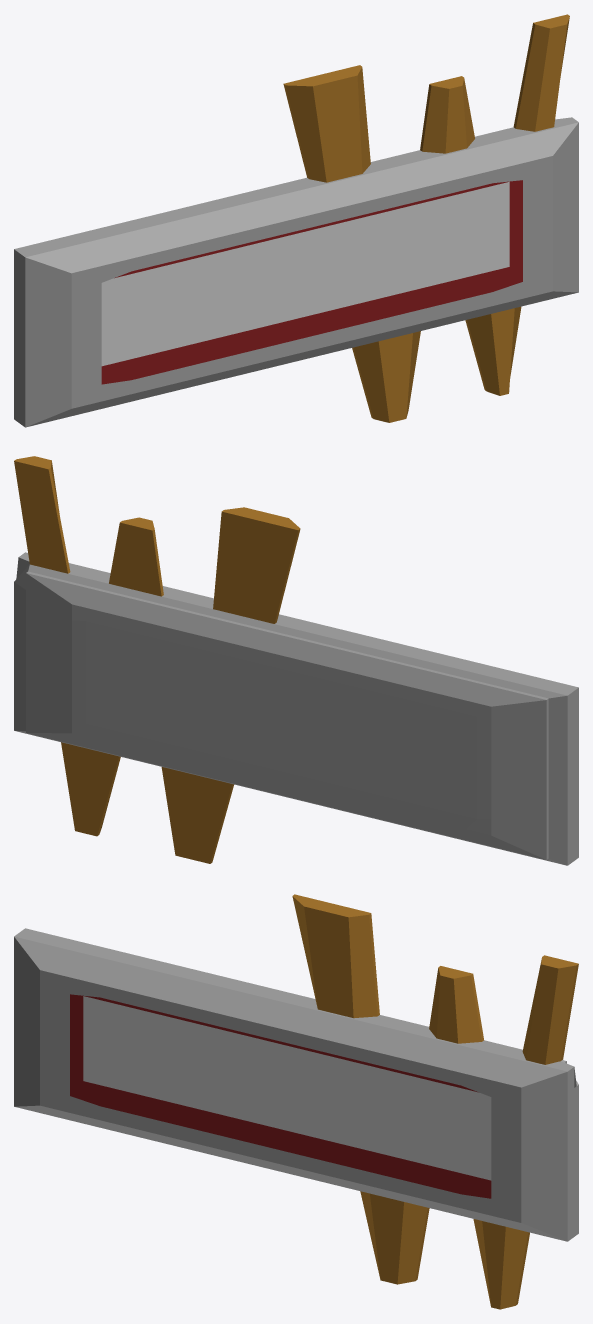
3 views of the same model, one above another, from view 1: azimuth 30°, elevation 25°; view 2: azimuth 150°, elevation 25°; view 3: azimuth 330°, elevation 25° (orthographic).
Parts seen in each view (by area): view 1: Cube; view 2: Cube; view 3: Cube.
Part boxes in pixels (bbox=[...]): Cube: bbox=[14, 14, 578, 427]; Cube: bbox=[14, 456, 578, 865]; Cube: bbox=[14, 894, 578, 1309].
Size of the model in its own units: 681 by 418 by 65.5.
